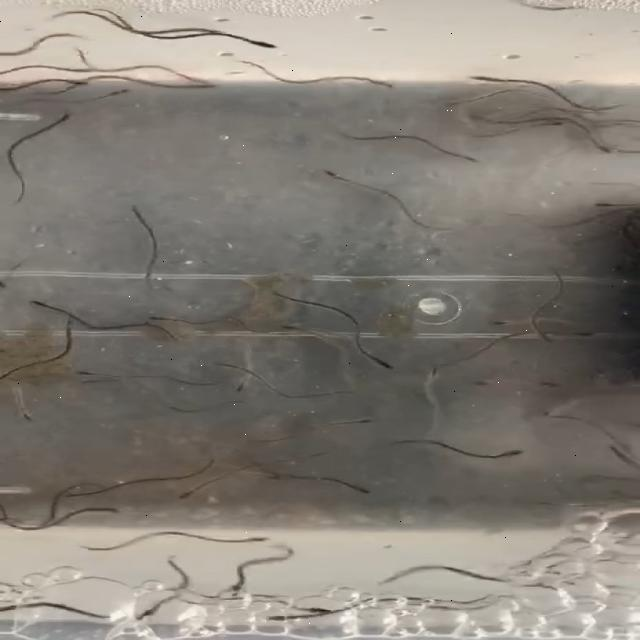active_glass_eel: (487, 437, 543, 477), (96, 196, 168, 218), (151, 480, 213, 502), (343, 482, 391, 508), (86, 501, 128, 529), (226, 525, 272, 549), (203, 580, 259, 598), (72, 375, 120, 395), (358, 351, 404, 371), (356, 68, 394, 92), (578, 327, 616, 351), (468, 368, 506, 392), (253, 612, 296, 632), (420, 94, 466, 112), (536, 111, 572, 134), (523, 403, 559, 425), (588, 138, 618, 164), (132, 604, 170, 624), (314, 165, 358, 182), (240, 34, 278, 52), (340, 408, 378, 426), (136, 311, 180, 325), (224, 377, 254, 397), (460, 66, 496, 82), (22, 296, 54, 314), (428, 361, 456, 381), (210, 353, 238, 372), (63, 76, 99, 90), (42, 108, 84, 120), (274, 318, 304, 334), (178, 73, 216, 84), (192, 82, 224, 95), (580, 197, 610, 210), (534, 333, 556, 349), (108, 86, 128, 102), (70, 367, 94, 377), (22, 414, 42, 424)
